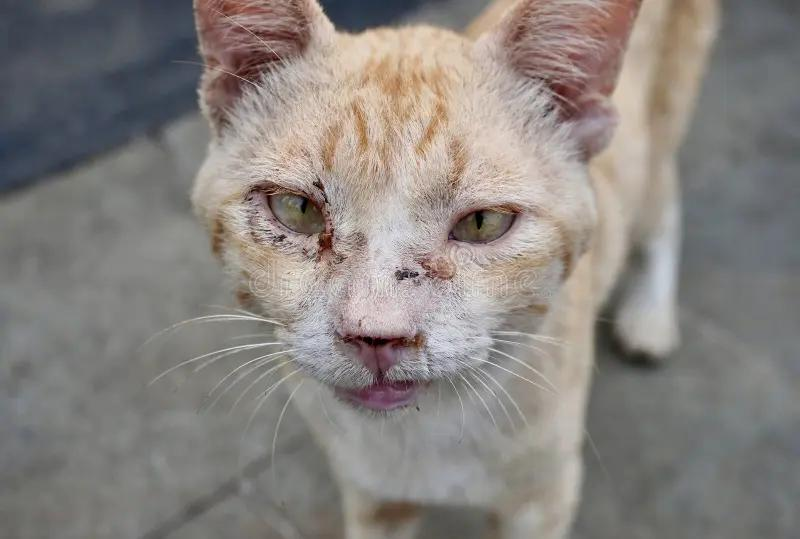infection: (221, 161, 485, 350)
